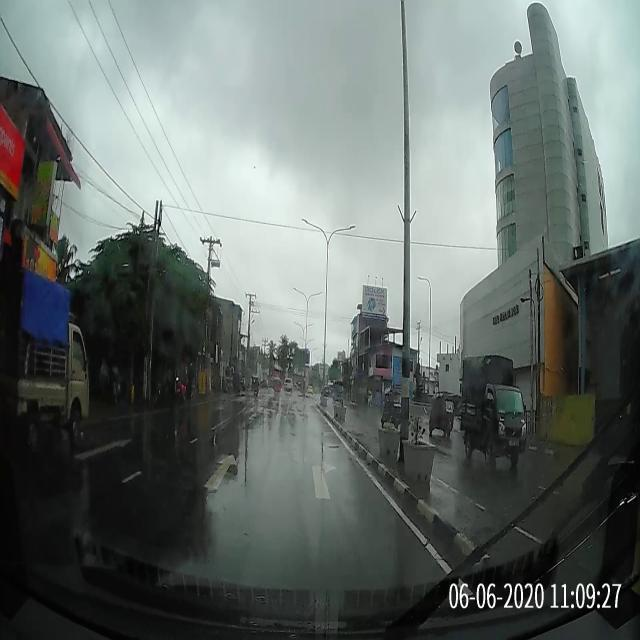forward: (138, 433, 304, 518)
